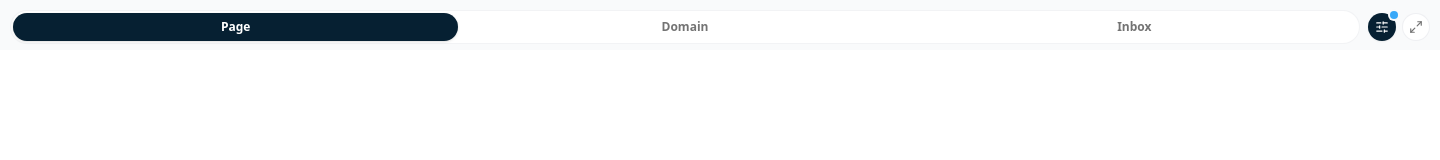
Test: FilterBar Component › 検索クエリやフィルタ条件が有効な場合、パネルが閉じていてもフィルタトグルボタンがハイライト（bg-action）され、インジケータドットが表示されること
// トグルを開くとインジケータドットが消え、クリアボタンも確認できること
Click the button titled "Toggle filters and search" at coordinates (1382, 27), box [1368, 13, 1396, 41]
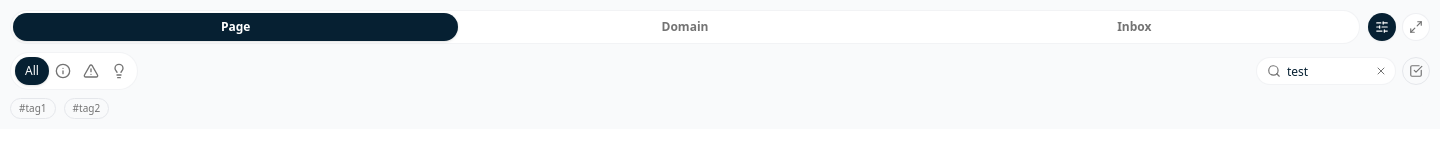
Now the button titled "Clear search" is shown, box [1371, 61, 1391, 81]
